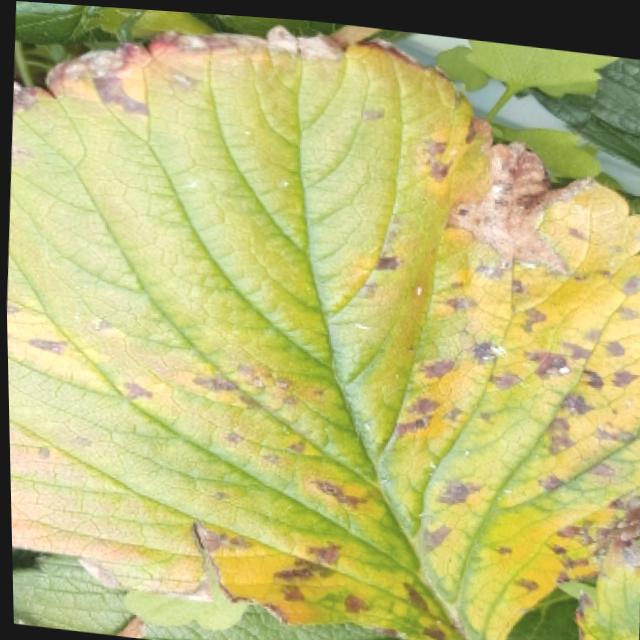Angular Leafspot: (5, 18, 640, 640), (557, 528, 640, 640)
